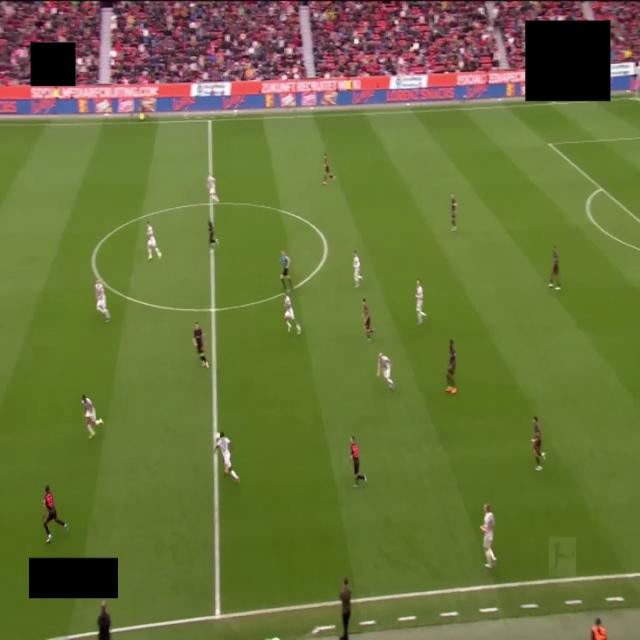player: (43, 485, 68, 543), (216, 432, 239, 482), (481, 504, 496, 568), (82, 395, 103, 439), (350, 436, 366, 487), (532, 416, 545, 471), (284, 294, 301, 335), (193, 322, 208, 367), (377, 352, 394, 390), (95, 280, 110, 322), (446, 340, 456, 394), (147, 222, 161, 260), (362, 298, 374, 341), (549, 246, 560, 290), (416, 280, 426, 325), (323, 154, 334, 185), (353, 251, 362, 287), (208, 219, 217, 251), (208, 175, 218, 203), (451, 193, 456, 231)
referee: (281, 251, 292, 291)
